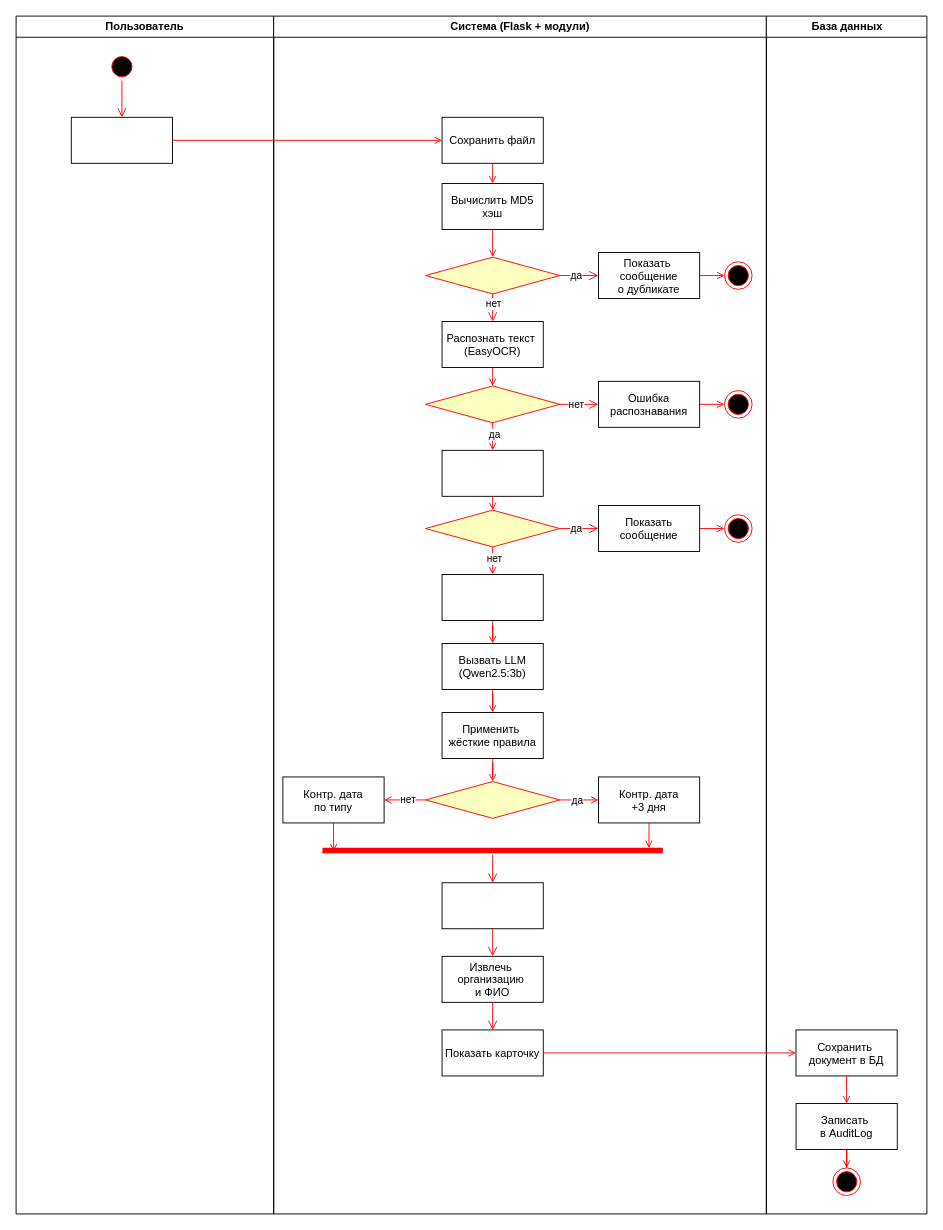
Image size: 943x1230. Some labels were removed from this diagram. Each missing label, with the centre of its shape:
Выполнить RAG-поиск (pgvector): point 492,597
Вычислить хэш текста: point 492,472
Документ уже есть?: point 492,528
Загрузить файл: point 121,139
Сгенерировать краткое описание: point 492,905
Срочность?: point 492,799
Текст распознан?: point 492,404
Файл уже загружен?: point 492,275
